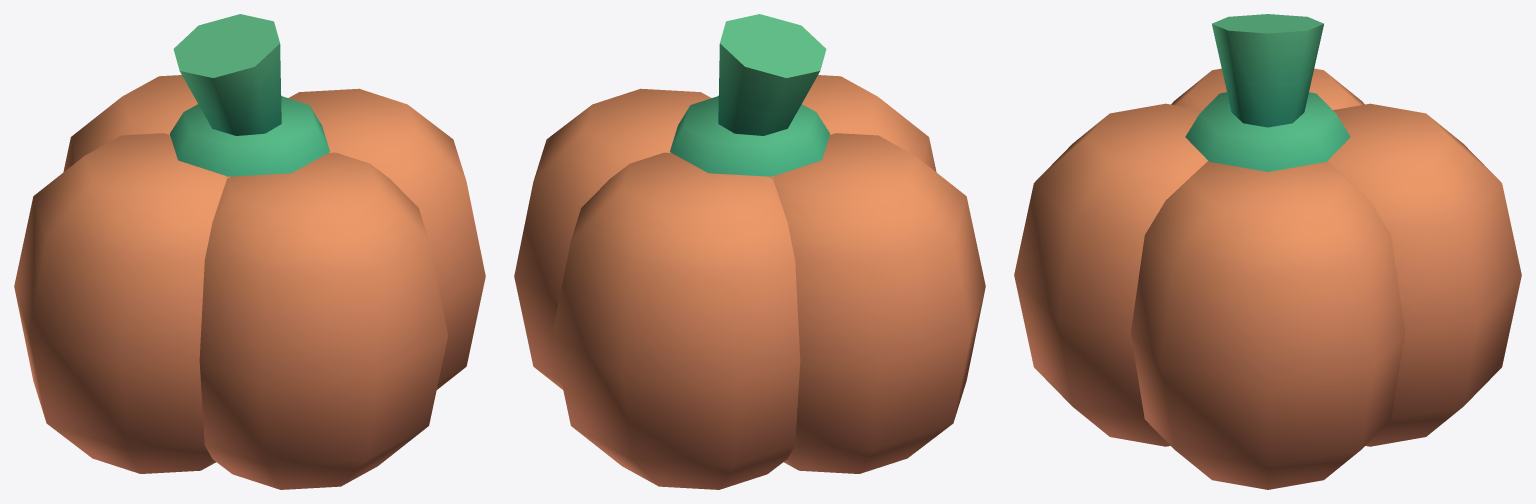
File: k-graveyard-pumpkin.glb
3 renders of one model, left to right at view 1: azimuth 30°, elevation 25°; view 2: azimuth 150°, elevation 25°; view 3: azimuth 270°, elevation 25°, orthographic.
Visible parts, largest first — view 1: pumpkin; view 2: pumpkin; view 3: pumpkin.
Part boxes in pixels (x1=…): pumpkin: x1=14, y1=14, x2=485, y2=489; pumpkin: x1=514, y1=14, x2=985, y2=489; pumpkin: x1=1014, y1=14, x2=1521, y2=489.
Bounding box in the file's own units: 0.3775 × 0.3211 × 0.3775.
1 material, 1 textured.
